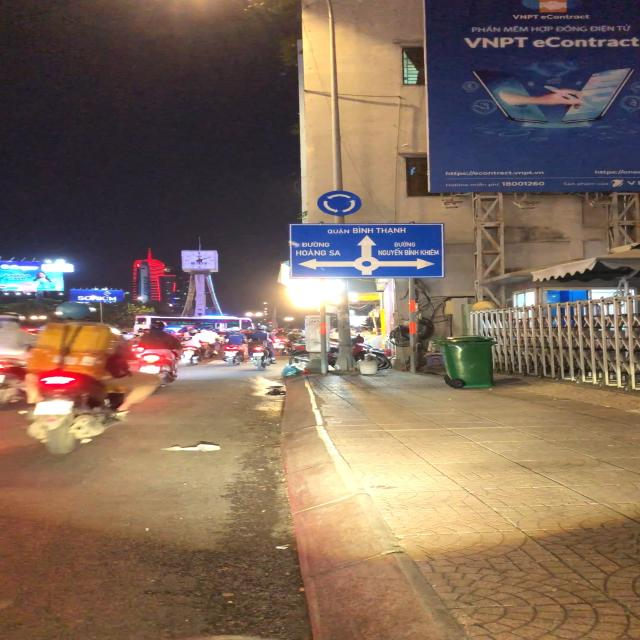Bien bao noi giao nhau chay theo vong xuyen: (317, 189, 366, 219)
